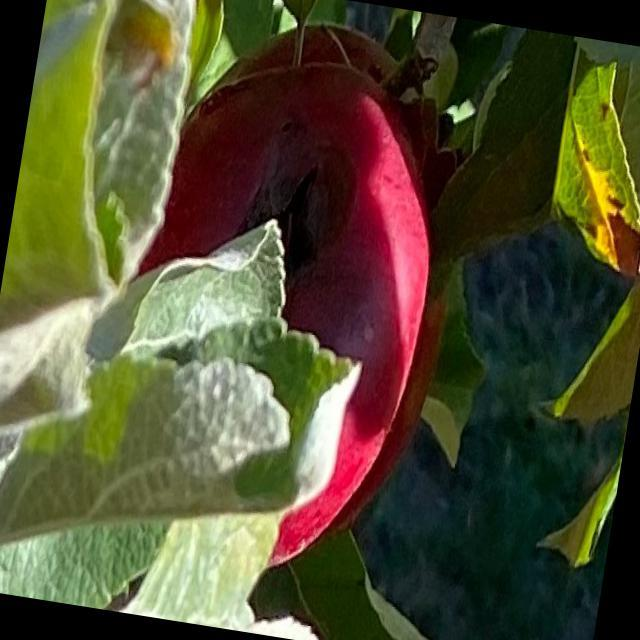100-_ripeness: (164, 13, 481, 551), (121, 61, 449, 580)
